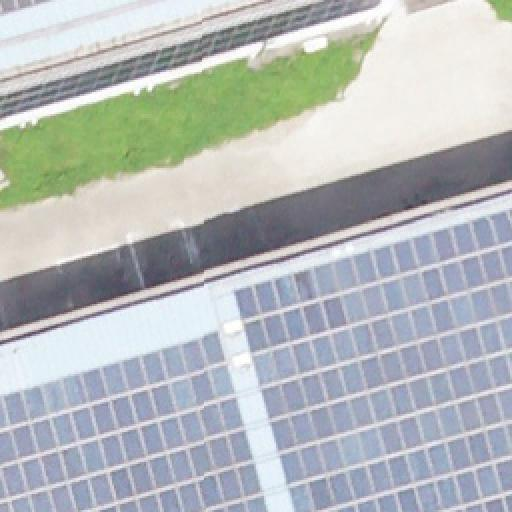solar-panel: (232, 208, 512, 512), (0, 329, 268, 511), (0, 1, 40, 15)
